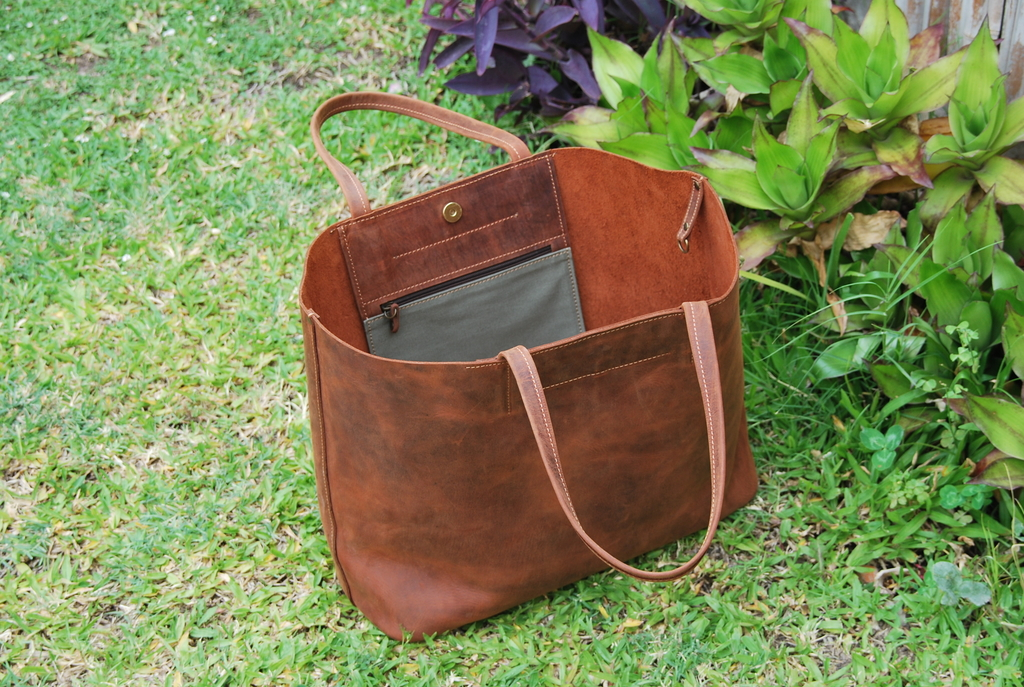cartera: (288, 83, 763, 645)
cuero: (296, 145, 766, 648)
